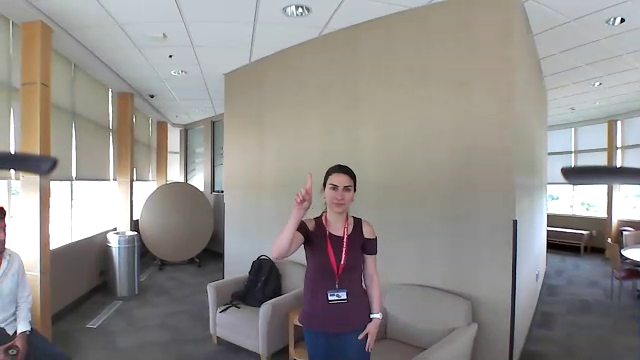up: (290, 171, 315, 216)
